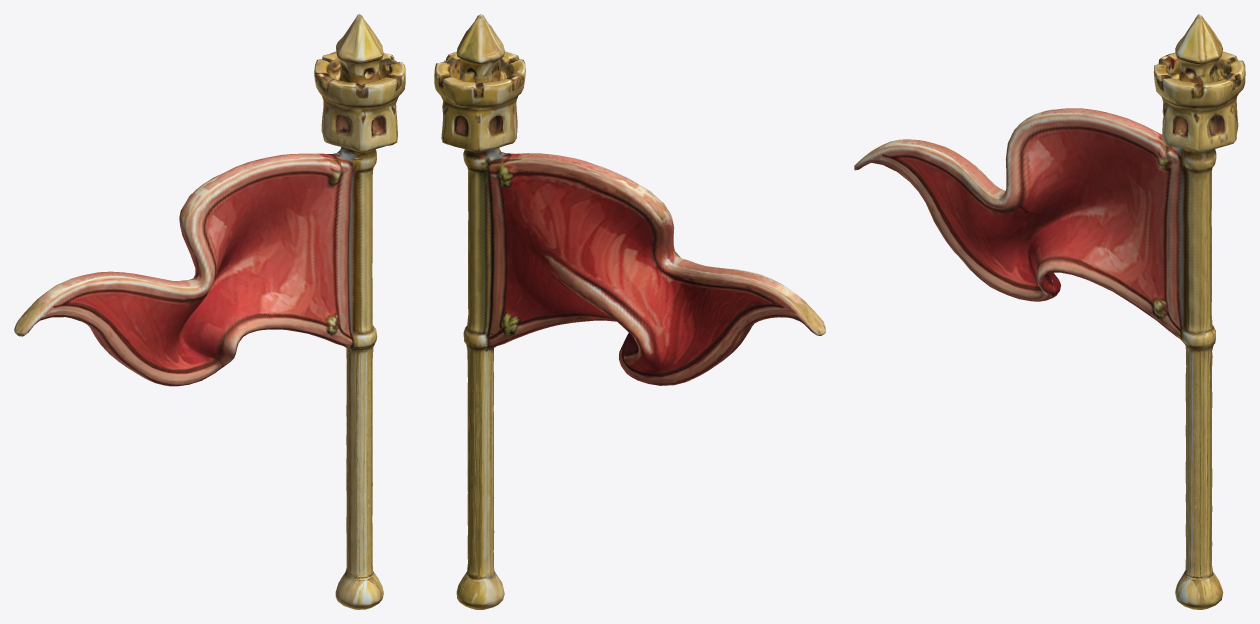
3 renders of one model, left to right at view 1: azimuth 30°, elevation 25°; view 2: azimuth 150°, elevation 25°; view 3: azimuth 330°, elevation 25°, orthographic.
Parts seen in each view (by area): view 1: texture_mapping; view 2: texture_mapping; view 3: texture_mapping.
Part boxes in pixels (box(x1,y1,x2,y2)): texture_mapping: box(14, 14, 405, 609); texture_mapping: box(434, 14, 825, 609); texture_mapping: box(854, 14, 1245, 609).
Size of the model in its own units: 0.6749 by 1 by 0.1449.
Materials: 1 (1 with a texture image).
